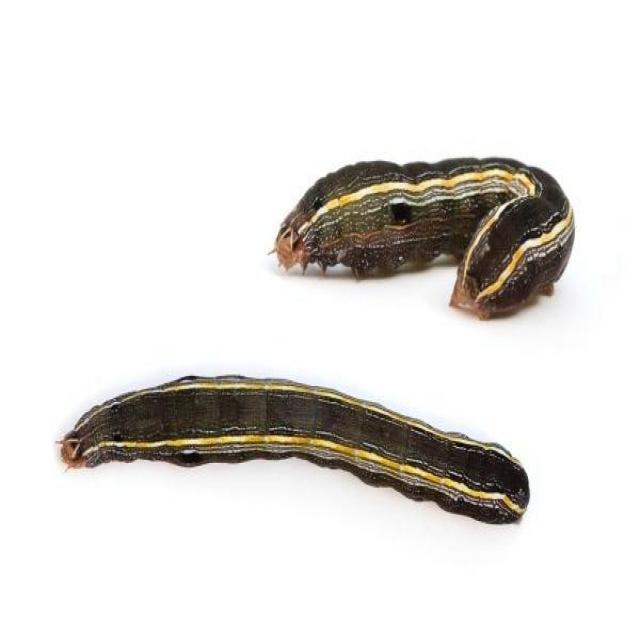BeetArmyWorm-Larva-: (48, 361, 544, 544), (260, 149, 586, 326)
